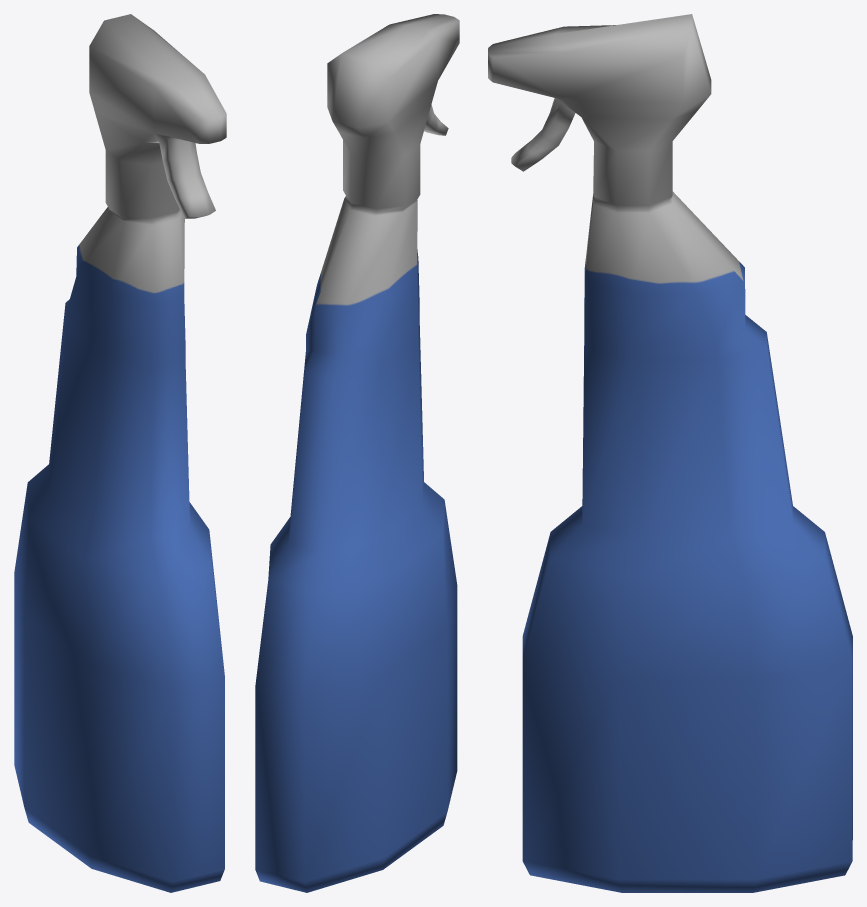
File: sanitiser-spray.glb
3 views of the same model, side by side, from view 1: azimuth 30°, elevation 25°; view 2: azimuth 150°, elevation 25°; view 3: azimuth 270°, elevation 25° (orthographic). The views are drawn at different scales.
Parts seen in each view (by area): view 1: spray; view 2: spray; view 3: spray.
Part boxes in pixels (x1,y1,x2,y2): spray: (14, 14, 226, 892); spray: (255, 14, 459, 892); spray: (488, 14, 852, 892).
Size of the model in its own units: 0.0811 by 0.5055 by 0.1984.
1 material, 1 textured.
